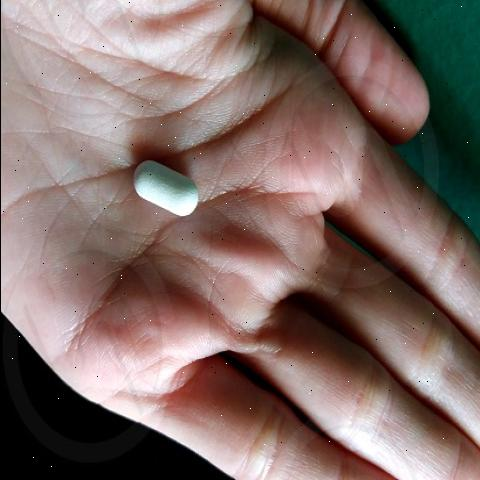Pill: (112, 139, 217, 233)
